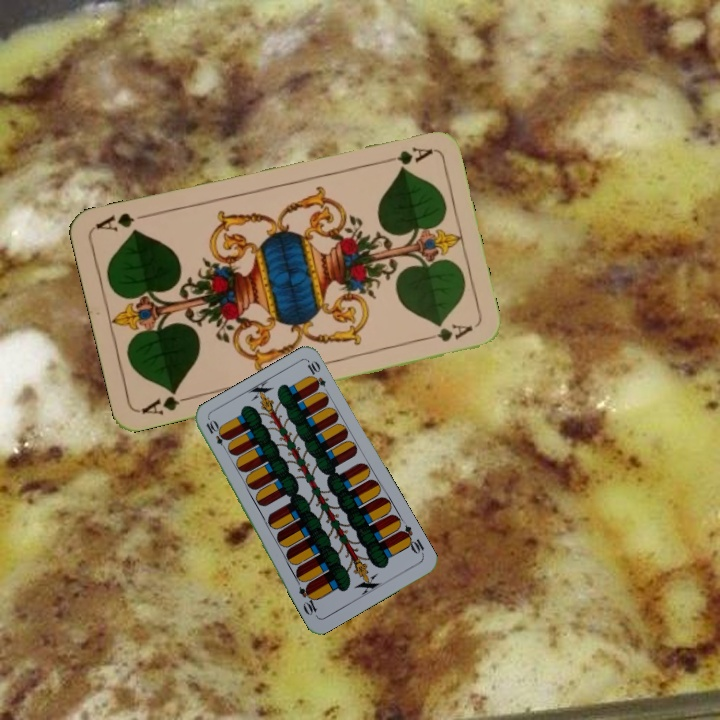E10: (396, 521, 427, 558), (202, 416, 231, 454)
GA: (138, 386, 195, 418), (376, 143, 435, 168)
